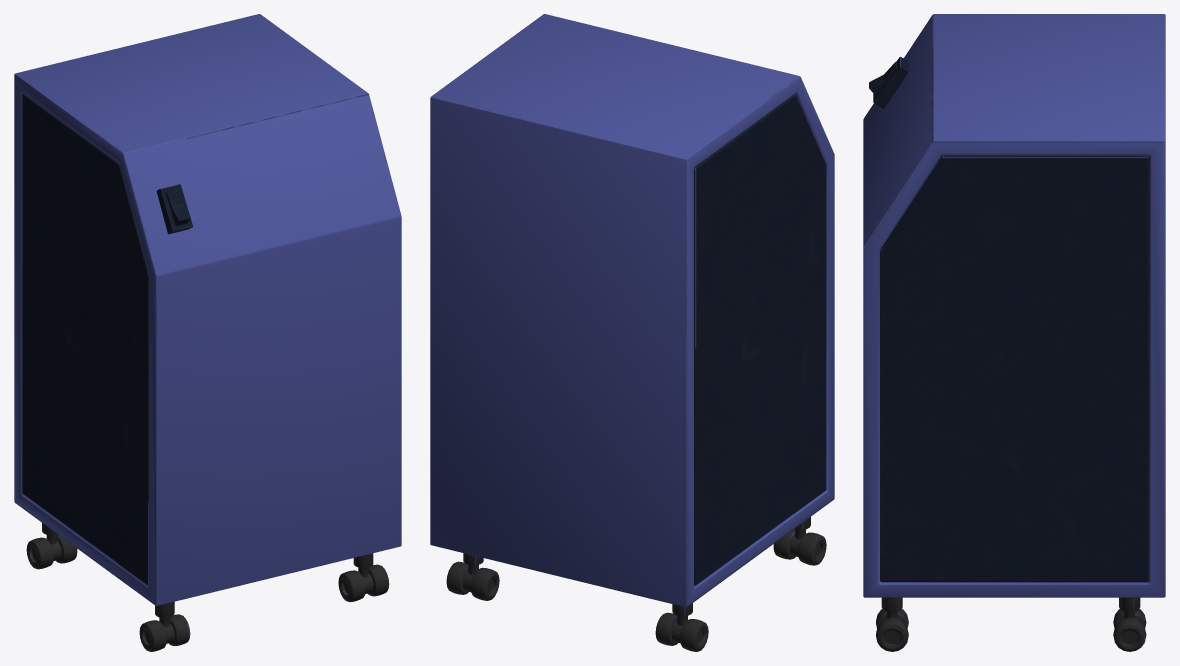
Rendered from Inverter.fbx.
The picture shows the model from 3 angles, left to right: view 1: azimuth 30°, elevation 25°; view 2: azimuth 150°, elevation 25°; view 3: azimuth 270°, elevation 25°; orthographic projection. The views are drawn at different scales.
Visible parts, largest first — view 1: Inverter; view 2: Inverter; view 3: Inverter.
Boxes of the visible parts, bbox=[...] form: Inverter: bbox=[14, 14, 401, 651]; Inverter: bbox=[430, 14, 834, 651]; Inverter: bbox=[863, 14, 1165, 651].
Bounding box in the file's own units: 45.72 × 85.9 × 45.72.
